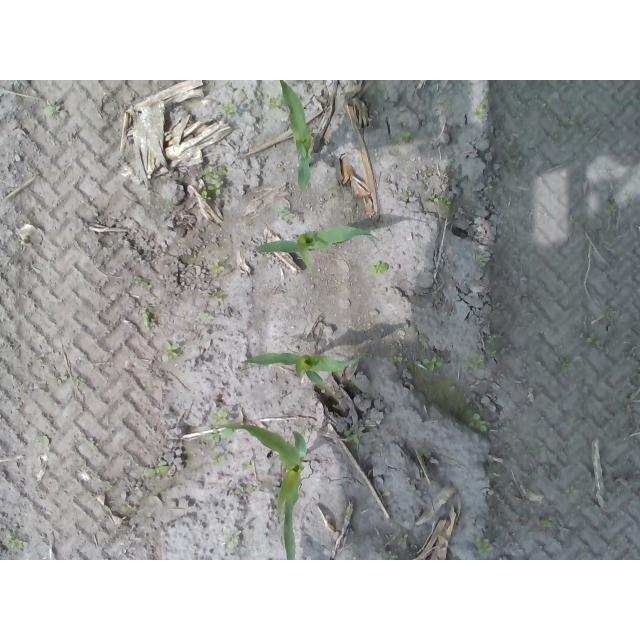Maize: (254, 226, 366, 265)
